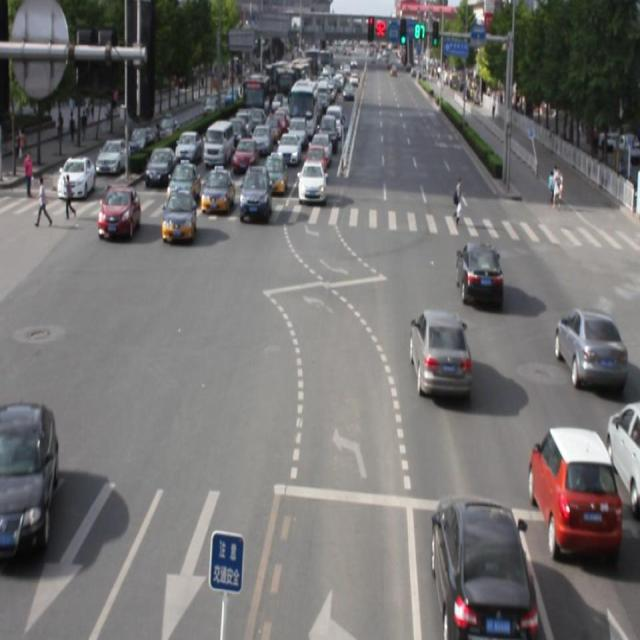car: (431, 493, 533, 640), (528, 423, 620, 558), (0, 402, 54, 558), (553, 306, 624, 392), (409, 308, 470, 398), (607, 401, 640, 523), (455, 242, 503, 308), (239, 164, 272, 221), (201, 165, 235, 219), (162, 188, 195, 243)
